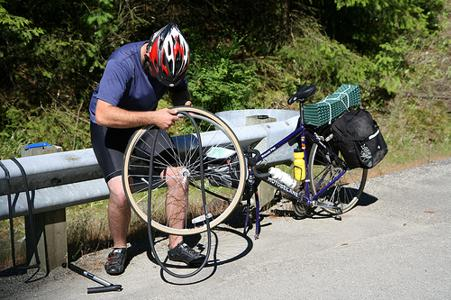person: (85, 22, 211, 277)
